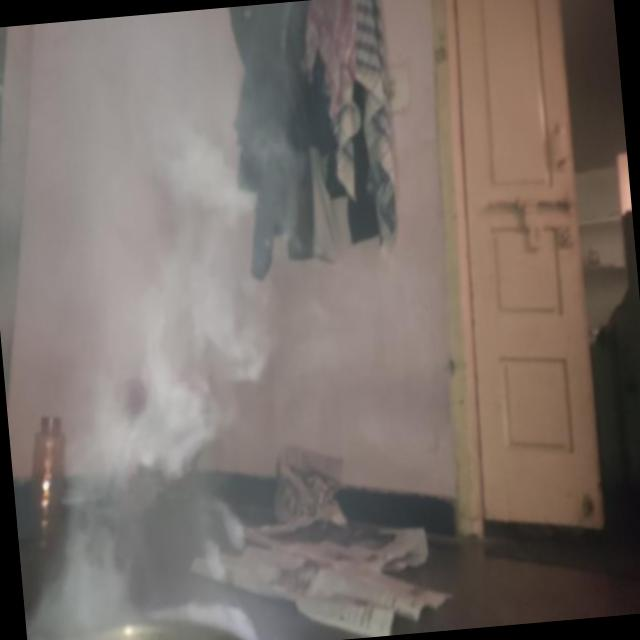smoke: (62, 212, 287, 568)
